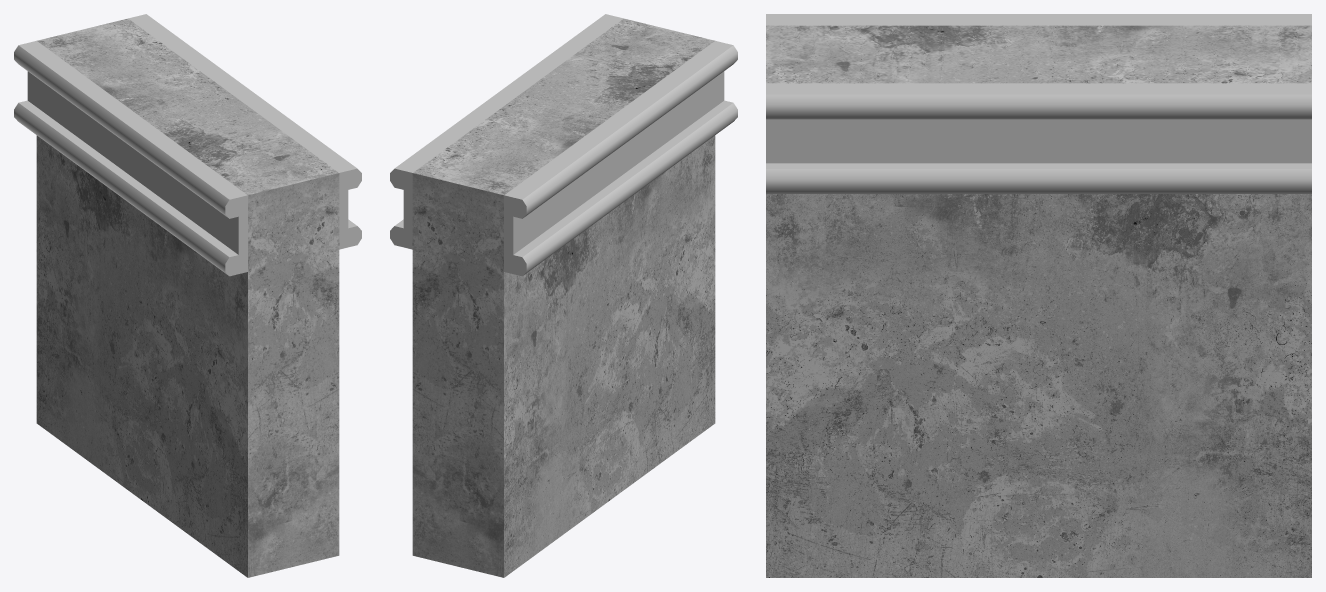
Rendered from SM_Wallkit_01c.fbx.
3 views of the same model, side by side, from view 1: azimuth 30°, elevation 25°; view 2: azimuth 150°, elevation 25°; view 3: azimuth 270°, elevation 25° (orthographic). The views are drawn at different scales.
Parts seen in each view (by area): view 1: SM_Wallkit_01c_LOD0; view 2: SM_Wallkit_01c_LOD0; view 3: SM_Wallkit_01c_LOD0.
Part boxes in pixels (x1,y1,x2,y2): SM_Wallkit_01c_LOD0: (14,14,361,577); SM_Wallkit_01c_LOD0: (390,14,737,577); SM_Wallkit_01c_LOD0: (766,14,1311,577).
Size of the model in its own units: 150 by 400 by 400.
